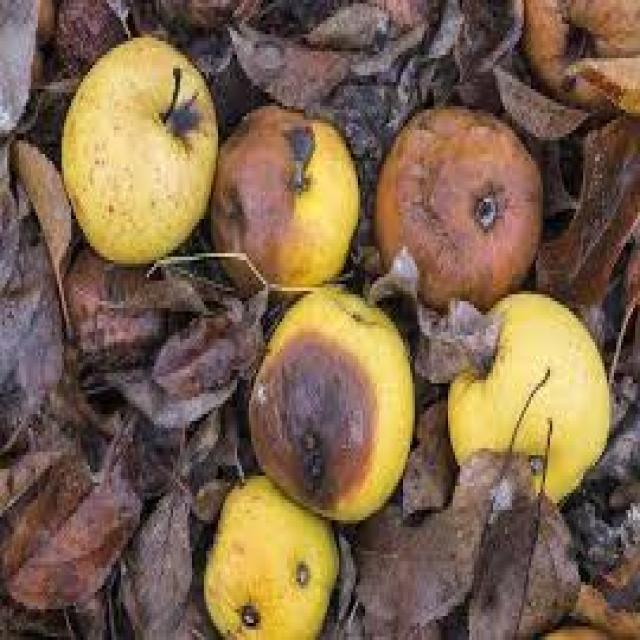wet: (451, 292, 608, 501), (210, 104, 363, 294), (346, 450, 498, 639), (74, 50, 210, 256), (204, 471, 340, 640), (104, 356, 241, 439)
